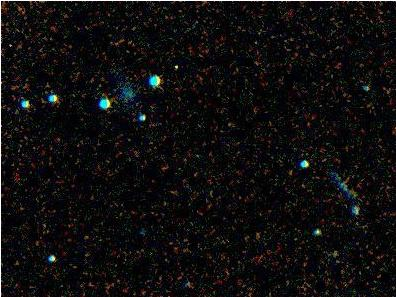star: (163, 52, 193, 82)
